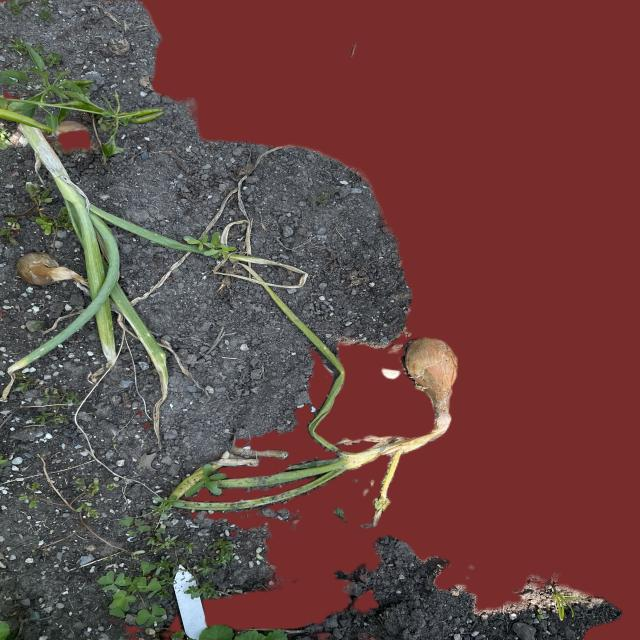Onion: (223, 335, 470, 529), (0, 247, 163, 378)
weed: (89, 511, 225, 626), (194, 220, 230, 268)
